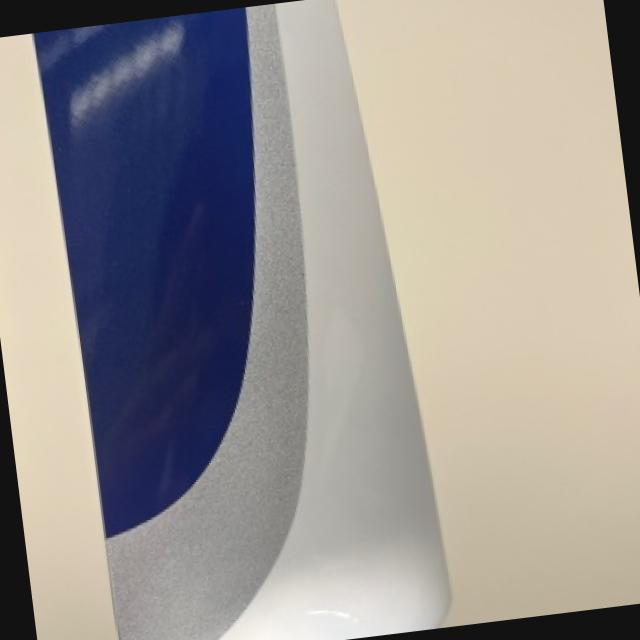healthy: (108, 0, 451, 640)
